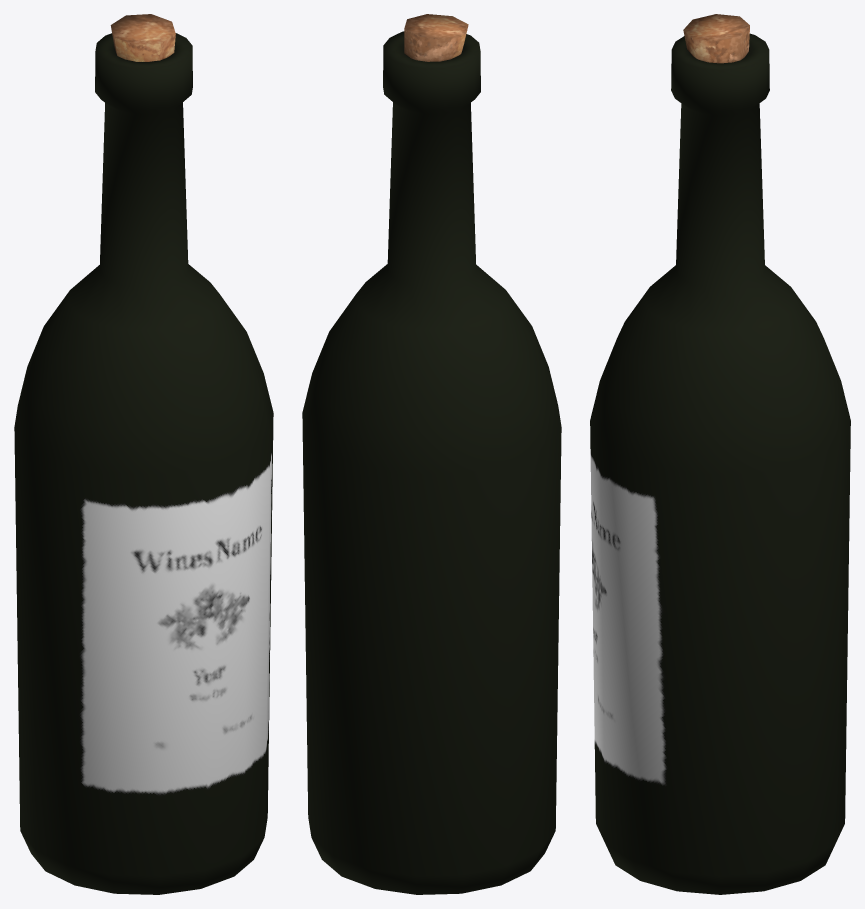
File: wine.fbx
The picture shows the model from 3 angles, left to right: view 1: azimuth 30°, elevation 25°; view 2: azimuth 150°, elevation 25°; view 3: azimuth 270°, elevation 25°; orthographic projection.
Visible parts, largest first — view 1: wine; view 2: wine; view 3: wine.
Part boxes in pixels (x1=…): wine: x1=14, y1=14, x2=273, y2=894; wine: x1=302, y1=14, x2=561, y2=894; wine: x1=590, y1=14, x2=850, y2=894.
Bounding box in the file's own units: 74.45 × 261 × 74.45.
Materials: 1 (1 with a texture image).
